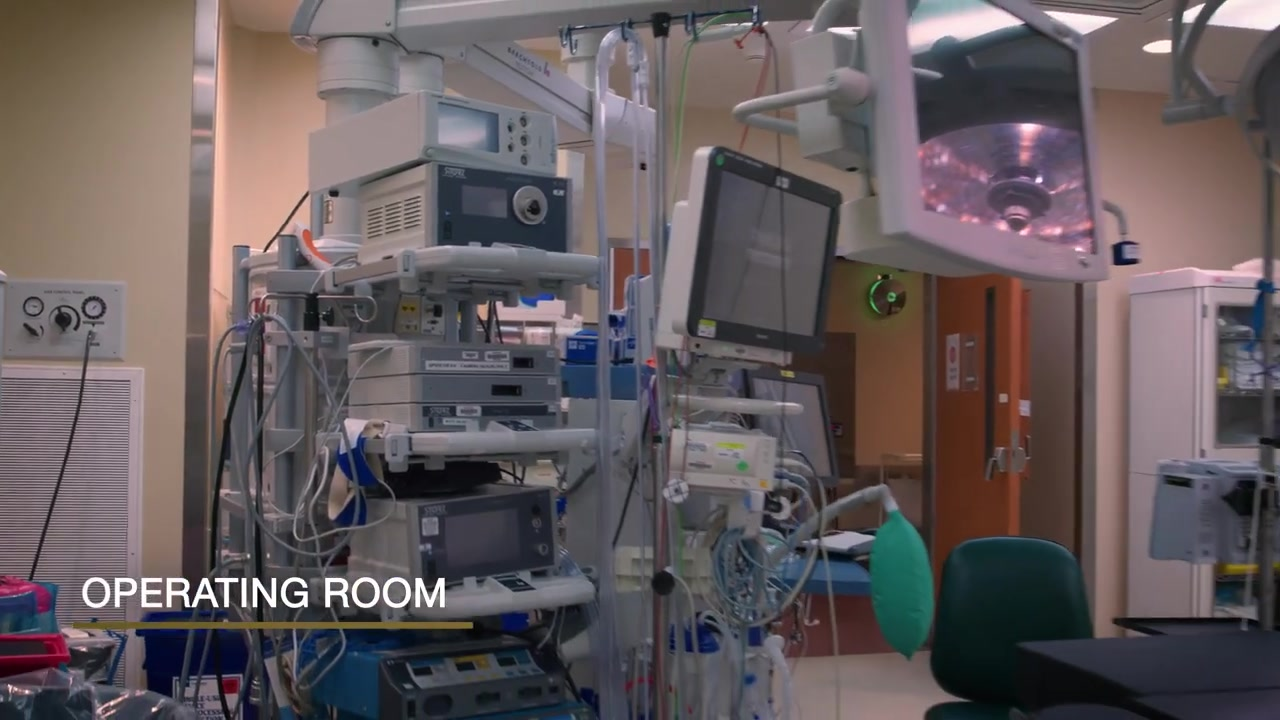bedside_monitor: (843, 1, 1115, 284), (655, 150, 840, 372)
cabinet: (1115, 267, 1270, 617)
chair: (919, 537, 1095, 720)
computer: (730, 371, 845, 484)
door_handle: (978, 444, 1008, 483), (1012, 435, 1034, 472)
electrosurgical_unit: (286, 628, 608, 720)
iv_pole: (559, 1, 772, 720)
operating_bed: (1009, 631, 1280, 720)
